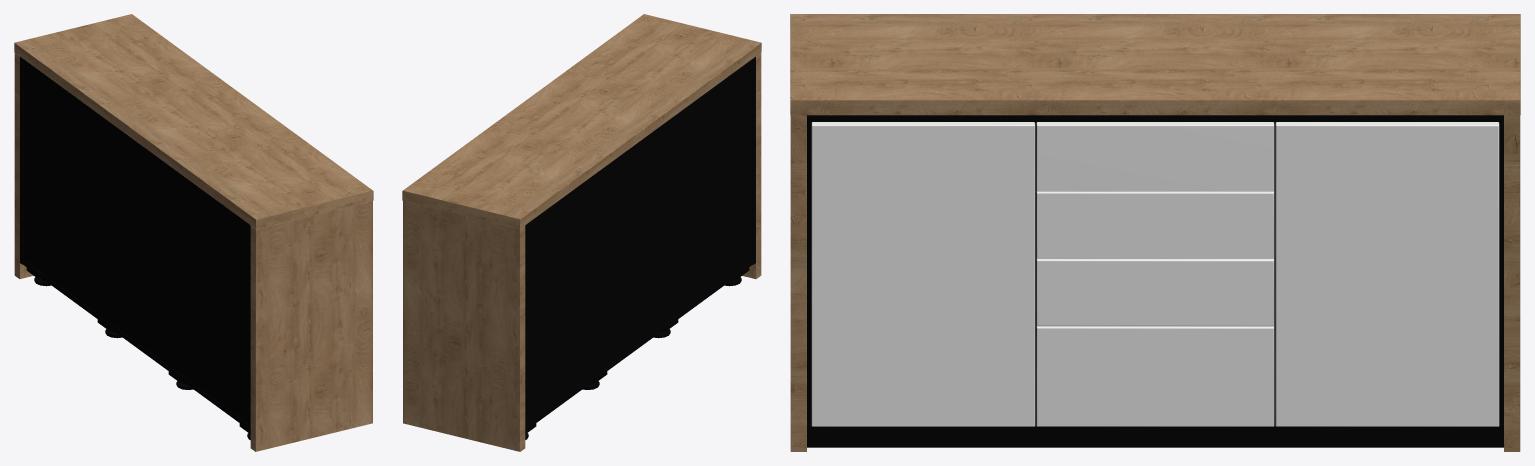
File: djs3.glb
3 renders of one model, left to right at view 1: azimuth 30°, elevation 25°; view 2: azimuth 150°, elevation 25°; view 3: azimuth 270°, elevation 25°, orthographic. The views are drawn at different scales.
Visible parts, largest first — view 1: Object_5, Object_4; view 2: Object_5, Object_4; view 3: Object_2, Object_3, Object_5, Object_4.
Boxes of the visible parts, x1,y1,x2,y2 form: Object_5: (14, 14, 373, 451); Object_4: (20, 56, 250, 439); Object_5: (402, 14, 761, 451); Object_4: (525, 56, 755, 439); Object_2: (1037, 126, 1498, 426); Object_3: (811, 122, 1499, 426); Object_5: (790, 14, 1520, 451); Object_4: (807, 115, 1503, 447).
Bounding box in the file's own units: 45 × 85 × 160.
3 materials, 1 textured.
